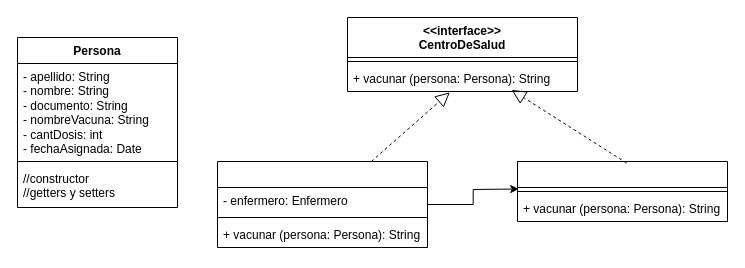
Some shapes in this 745 by 268 pixel diagram are drawn without their labels. Here are the shapes that lost their labels. From the top down, the box of each, then its label:
(216, 160, 428, 248): PersonalDeSaludProxy
(516, 160, 728, 222): Enfermero
